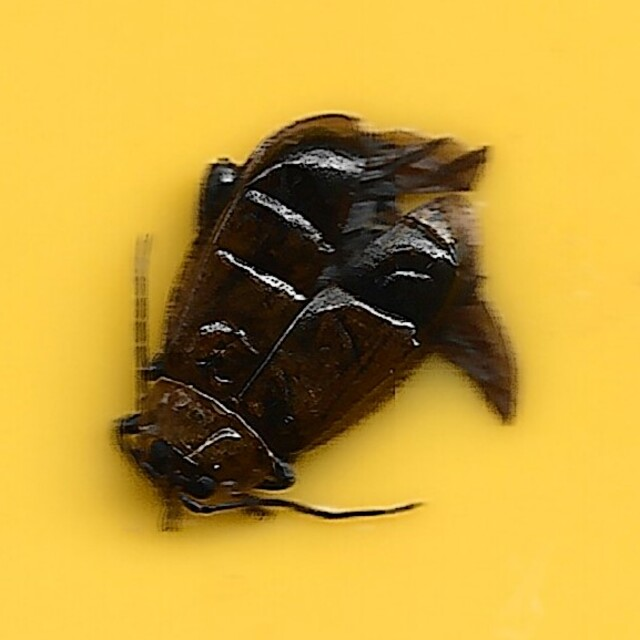Coleoptera: (111, 111, 529, 529)
